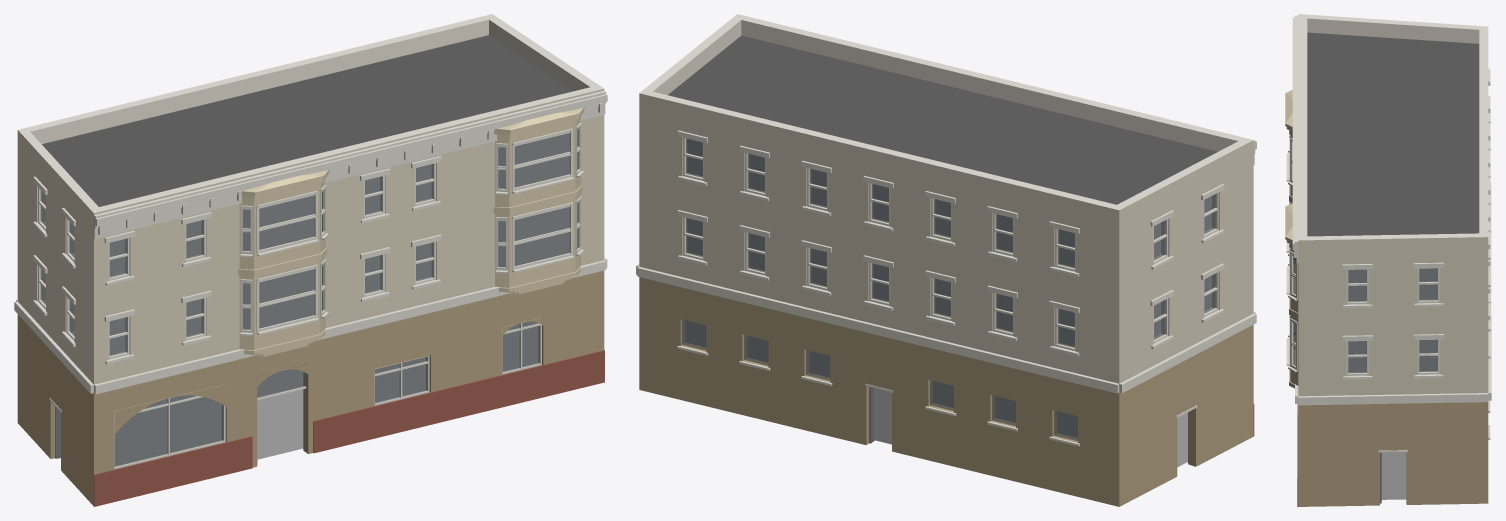
The model's file is exterior.glb.
The picture shows the model from 3 angles, left to right: view 1: azimuth 30°, elevation 25°; view 2: azimuth 150°, elevation 25°; view 3: azimuth 270°, elevation 25°; orthographic projection. The views are drawn at different scales.
Parts seen in each view (by area): view 1: shell, roof, shadow-proxy, trim, bay-glazing-hyb, hand-ornament, glazing, bay-windows-hyb, frames, storefront, hyC-arches-1; view 2: shell, roof, trim, glazing, shadow-proxy, frames; view 3: shell, roof, trim, shadow-proxy, glazing, bay-glazing-hyb, bay-windows-hyb, frames.
Part boxes in pixels (box(x1,y1,x2,y2)): shell: box(17, 14, 604, 506); roof: box(42, 35, 572, 206); shadow-proxy: box(110, 133, 569, 465); trim: box(14, 90, 607, 394); bay-glazing-hyb: box(240, 122, 584, 335); hand-ornament: box(94, 350, 604, 506); glazing: box(41, 164, 539, 466); bay-windows-hyb: box(238, 107, 584, 356); frames: box(38, 163, 435, 359); storefront: box(49, 317, 541, 469); hyC-arches-1: box(114, 317, 543, 434); shell: box(639, 14, 1253, 506); roof: box(668, 35, 1217, 204); trim: box(636, 130, 1256, 446); glazing: box(682, 138, 1215, 441); shadow-proxy: box(686, 139, 1211, 467); frames: box(683, 137, 1218, 351); shell: box(1298, 14, 1488, 506); roof: box(1307, 32, 1479, 236); trim: box(1292, 15, 1491, 439); shadow-proxy: box(1348, 268, 1437, 499); glazing: box(1348, 268, 1437, 373); bay-glazing-hyb: box(1286, 130, 1297, 372); bay-windows-hyb: box(1285, 90, 1298, 388); frames: box(1346, 268, 1439, 375).
Bounding box in the file's own units: 20.33 × 11.03 × 7.73.
